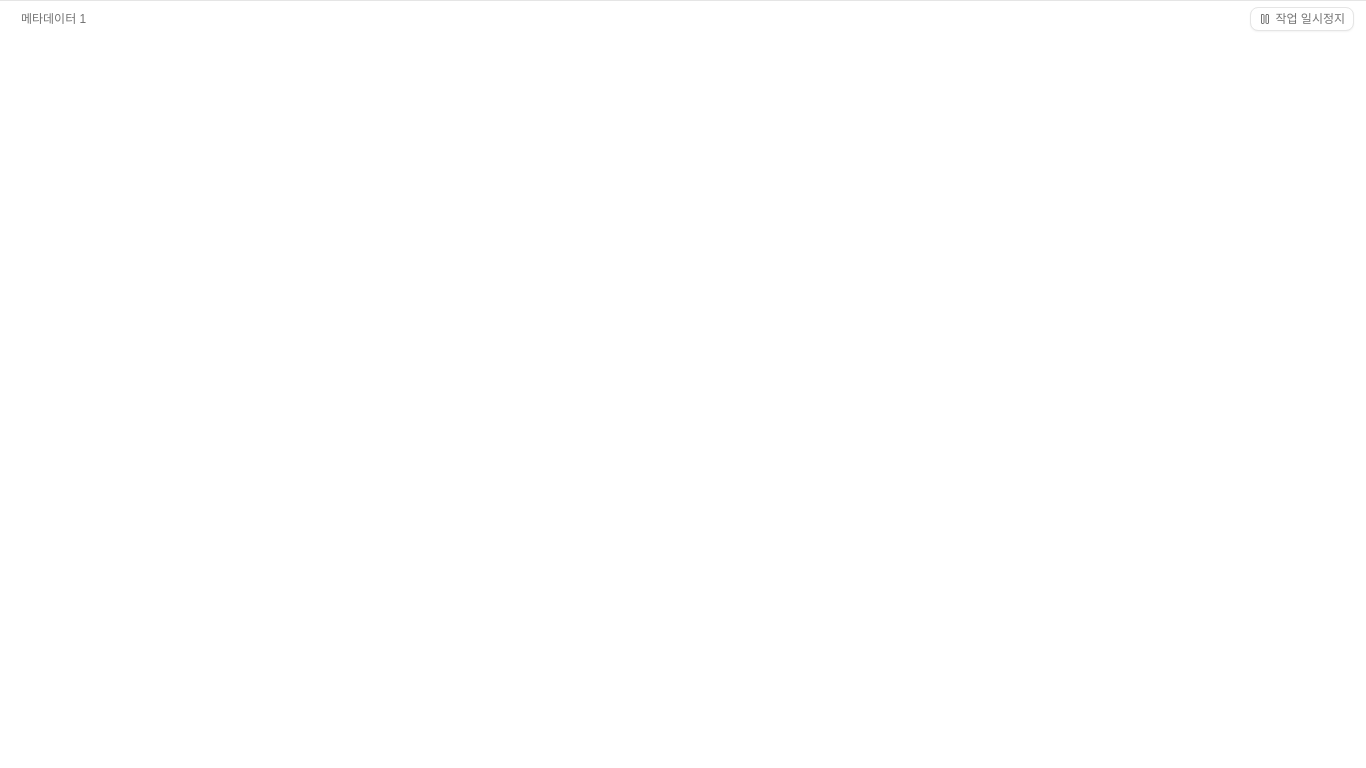
StatusBar background queue › T-ui-status-04 [Business rule] scan and index counts never produce chips or table rows
Click the button "메타데이터 1": point(54, 19) [12,7,95,31]
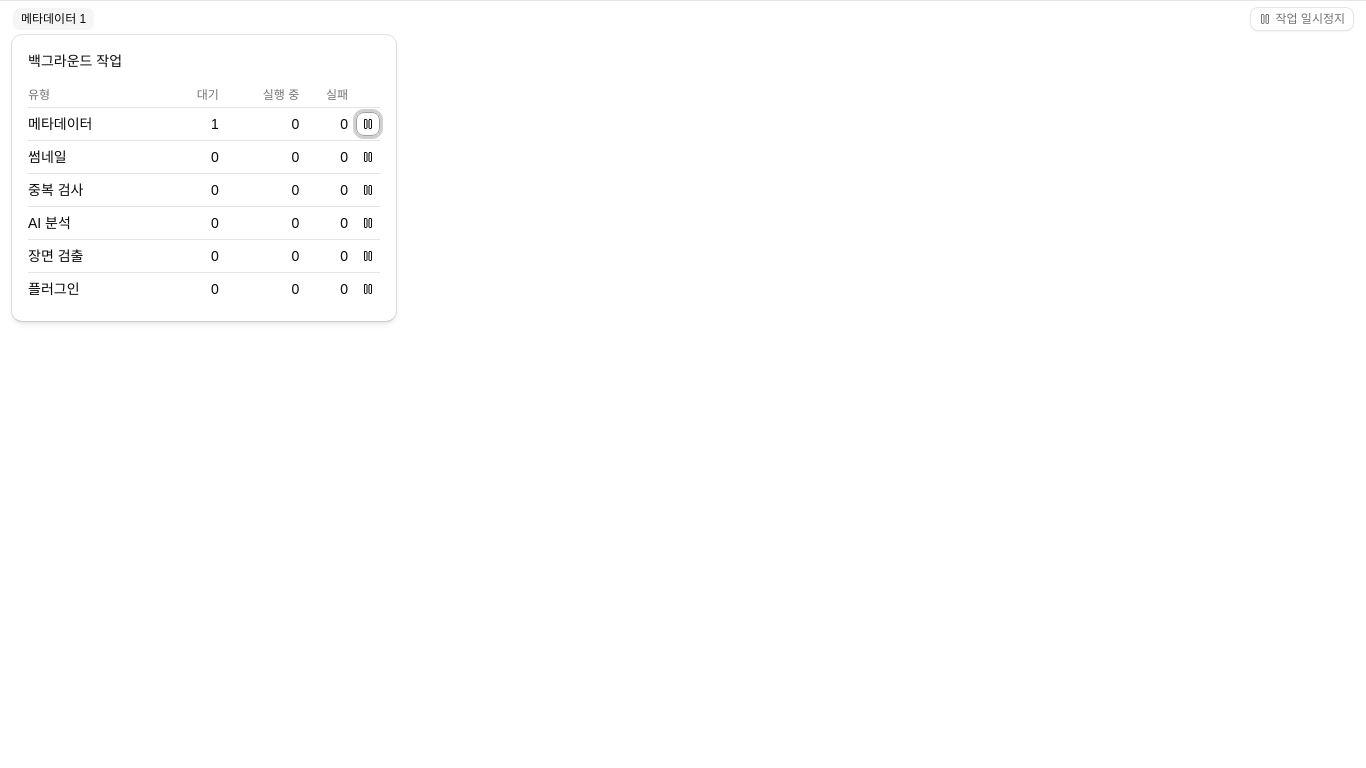
Result: the number of rows is 7
